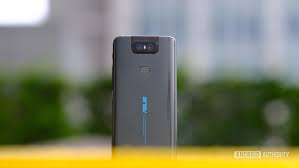asus: (108, 32, 181, 164)
